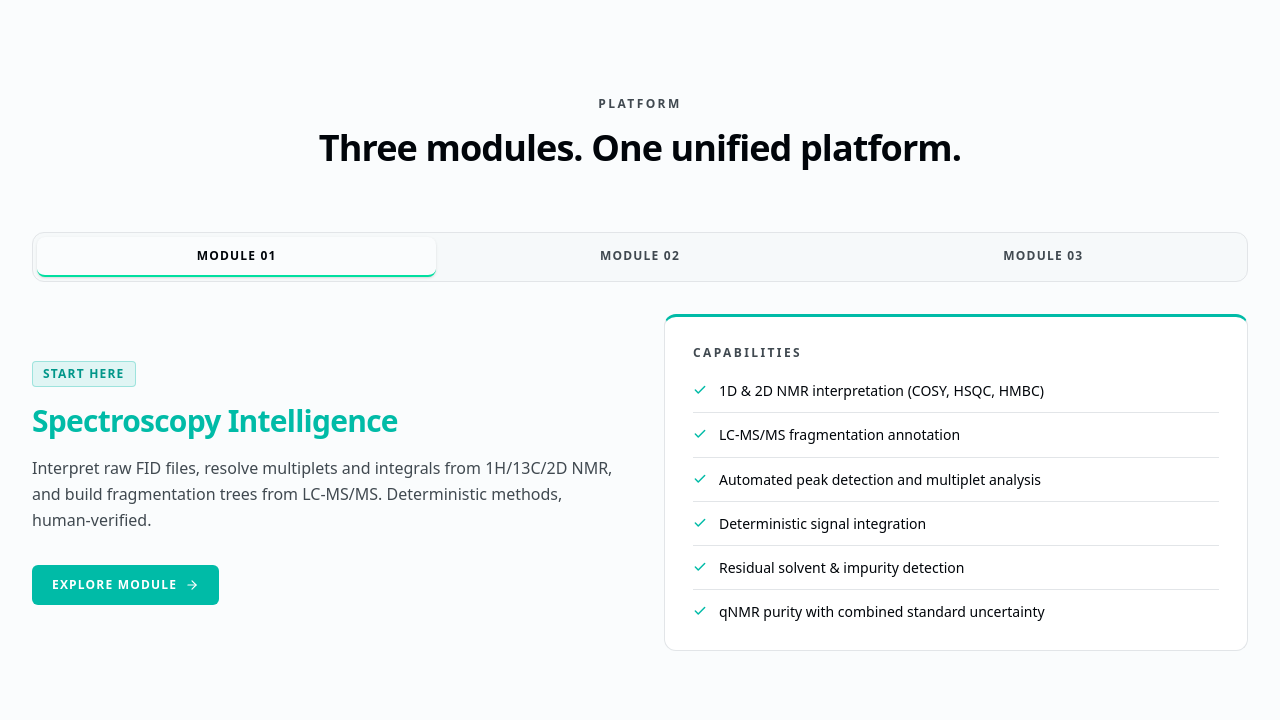
Scenario: ModuleCards — panel transition › REMOUNTS the panel on a module switch rather than mutating it in place
Expected: the element with class "mt-panel-in" is shown, [32,314,1248,650]
Click the button "MODULE 02" at (640, 257), box [440,237,840,277]
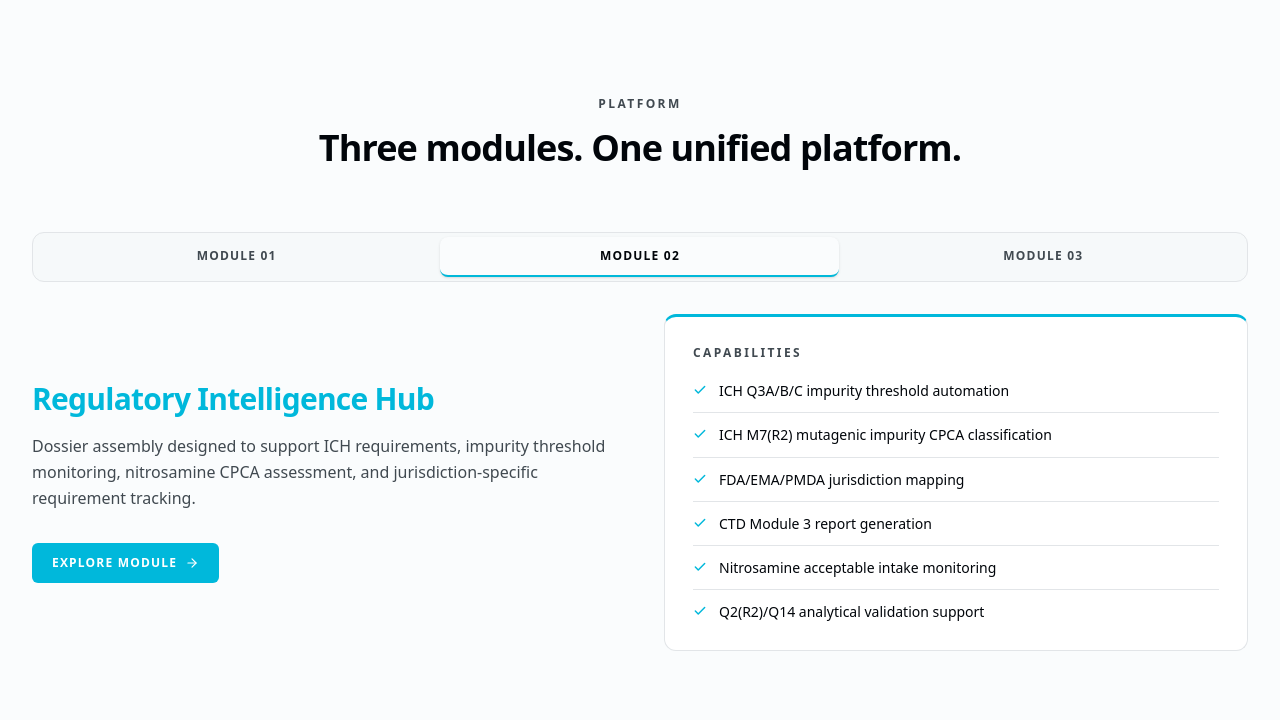
Result: the element with class "mt-panel-in" shows "Regulatory" at [32,378,434,419]
